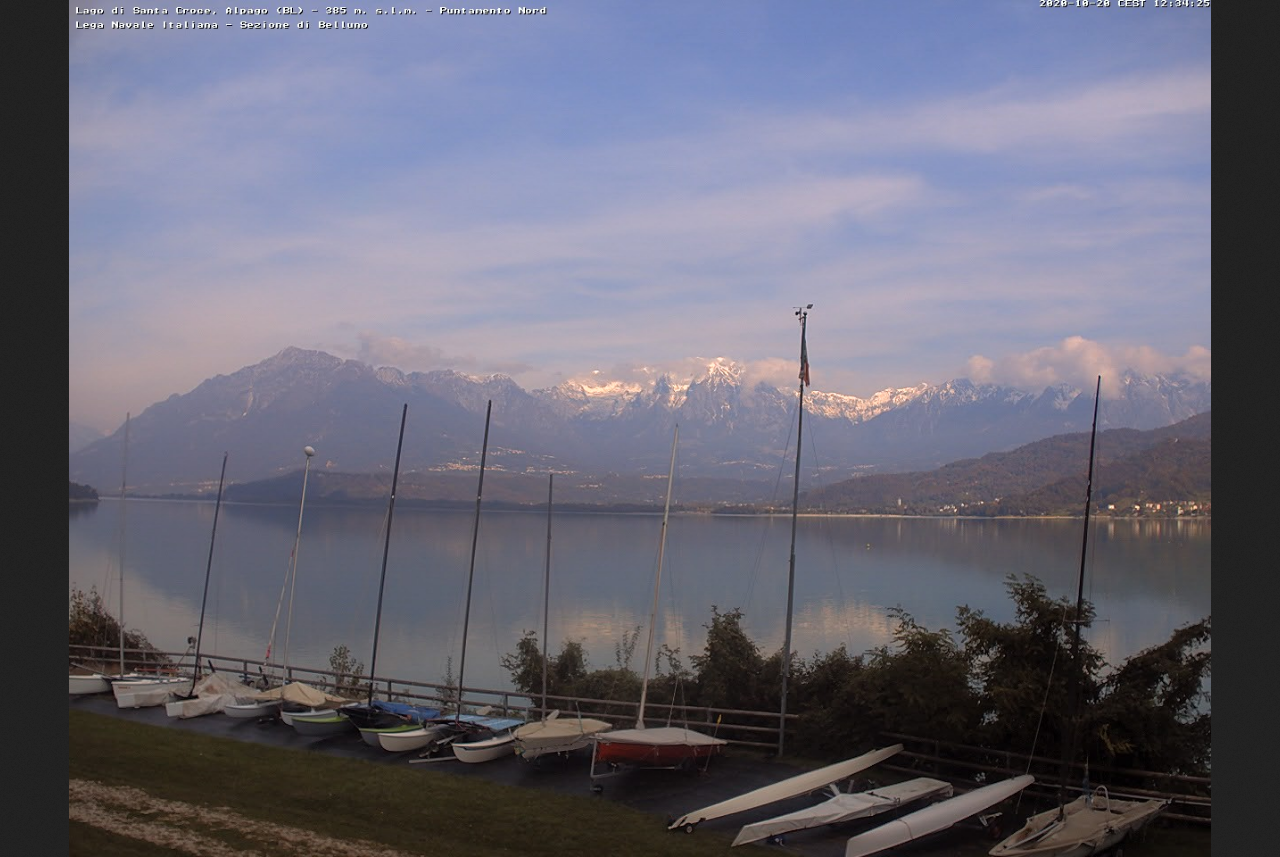no: (798, 309, 810, 386)
